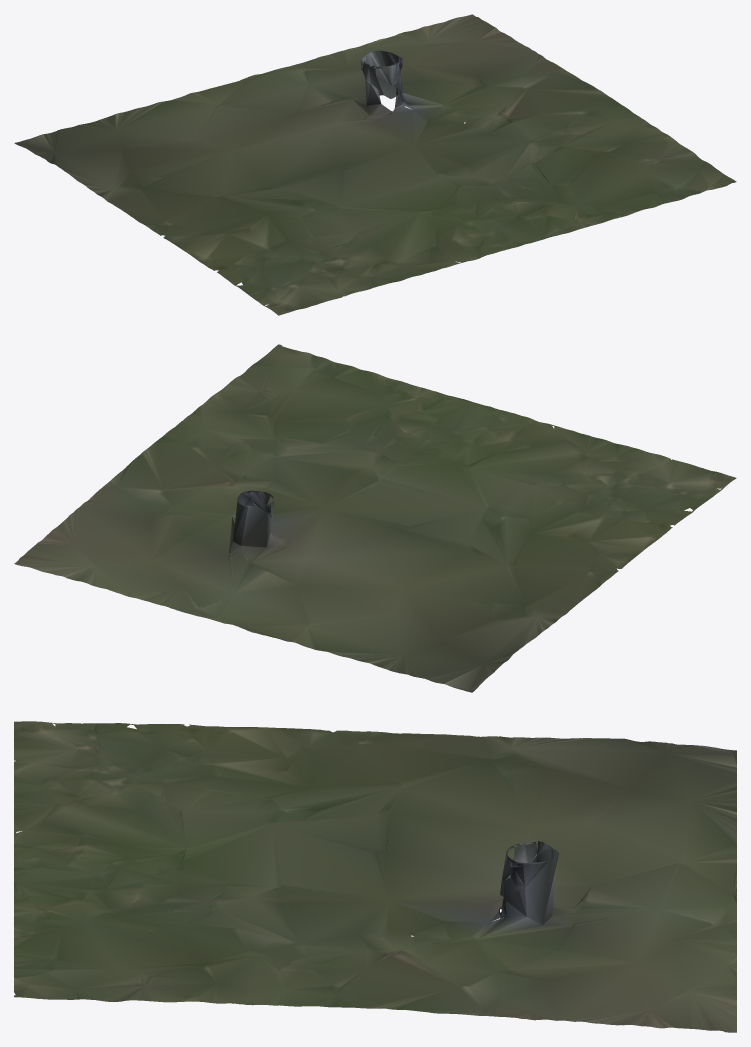
The model's file is coarse.glb.
3 views of the same model, one above another, from view 1: azimuth 30°, elevation 25°; view 2: azimuth 150°, elevation 25°; view 3: azimuth 270°, elevation 25° (orthographic). The views are drawn at different scales.
Size of the model in its own units: 3.6 by 0.5103 by 3.6.
